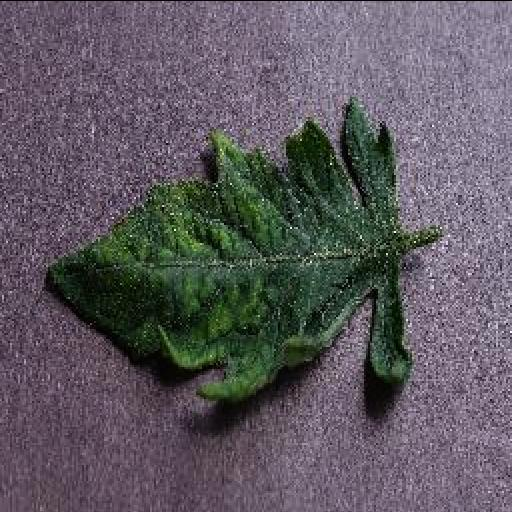disease_tomato: (42, 100, 416, 406)
